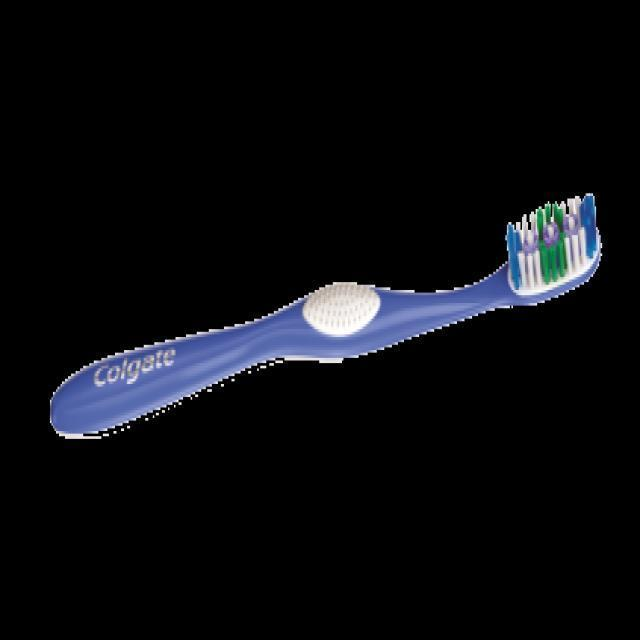toothbrush: (36, 180, 610, 459)
